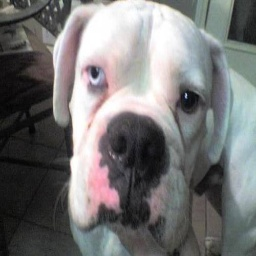dog: (49, 2, 256, 256)
